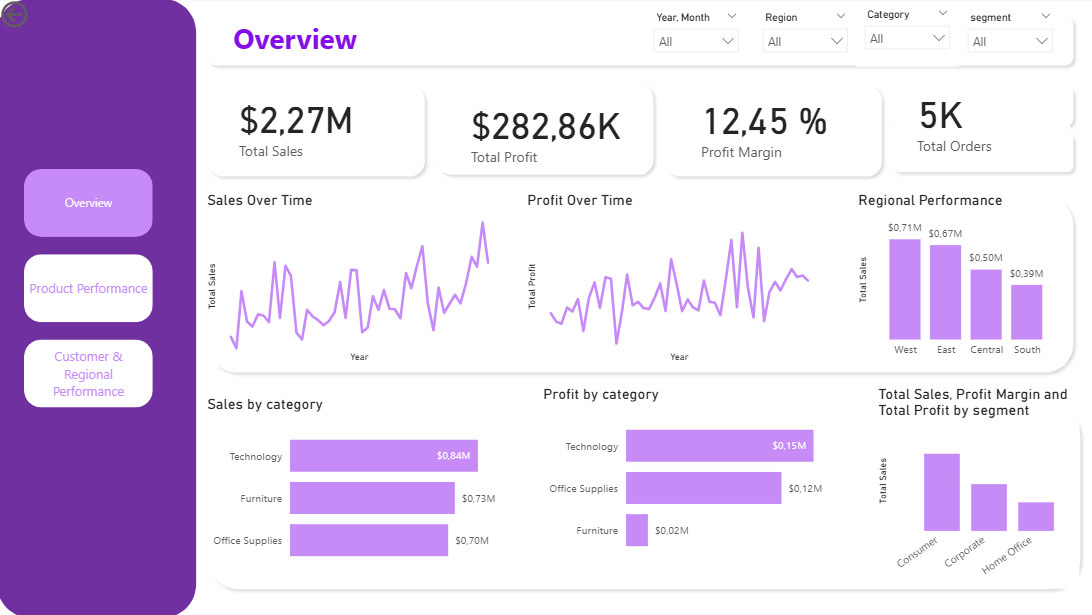

What the dashboard file says about the page in this screenshot:
{"tool":"powerbi","page":{"name":"Overview","canvas":[1280,720],"ordinal":0},"visuals":[{"type":"cardVisual","fields":{"Data":["superstore_db order_items.Total Sales"]},"box":[253.6,106.8,234.6,90.9],"z":0},{"type":"cardVisual","fields":{"Data":["superstore_db order_items.Total Profit"]},"box":[520.2,113.8,225.6,90.9],"z":1000},{"type":"cardVisual","fields":{"Data":["superstore_db order_items.Profit Margin %"]},"box":[784.8,100.8,222.7,103.8],"z":2000},{"type":"cardVisual","fields":{"Data":["superstore_db order_items.Total Orders"]},"box":[1033.4,93.9,200.7,103.8],"z":3000},{"type":"lineChart","title":"Profit Over Time","fields":{"Category":["superstore_db orders.order_date.Variation.Date Hierarchy.Year","superstore_db orders.order_date.Variation.Date Hierarchy.Month"],"Y":["superstore_db order_items.Total Profit"]},"box":[604.1,222.7,342.5,200.7],"z":4000},{"type":"clusteredBarChart","title":"Sales by Category","fields":{"Y":["superstore_db order_items.Total Sales"],"Category":["superstore_db products.category"]},"box":[236.6,457.3,367.4,211.7],"z":5000},{"type":"clusteredBarChart","title":"Profit by Category","fields":{"Y":["superstore_db order_items.Total Profit"],"Category":["superstore_db products.category"]},"box":[623,446.3,361.4,211.7],"z":6000},{"type":"columnChart","title":"Regional Performance","fields":{"Y":["superstore_db order_items.Total Sales"],"Category":["superstore_db orders.region"]},"box":[984.5,222.7,241.6,200.7],"z":7000},{"type":"columnChart","title":"Sales by Segment","fields":{"Y":["superstore_db order_items.Total Sales"],"Category":["superstore_db customers.segment"]},"box":[1007.4,446.3,235.6,233.6],"z":8000},{"type":"lineChart","title":"Sales Over Time","fields":{"Category":["superstore_db orders.order_date.Variation.Date Hierarchy.Year","superstore_db orders.order_date.Variation.Date Hierarchy.Month"],"Y":["superstore_db order_items.Total Sales"]},"box":[236.6,222.7,342.5,200.7],"z":9000},{"type":"slicer","title":"Sales Over Time","fields":{"Values":["superstore_db orders.order_date.Variation.Date Hierarchy.Year","superstore_db orders.order_date.Variation.Date Hierarchy.Month"]},"box":[744.8,12,117.8,63.9],"z":10000},{"type":"slicer","title":"Sales Over Time","fields":{"Values":["superstore_db products.category"]},"box":[987.5,8,117.8,71.9],"z":11000},{"type":"slicer","title":"Sales Over Time","fields":{"Values":["superstore_db orders.region"]},"box":[869.6,12,117.8,63.9],"z":12000},{"type":"slicer","title":"Sales Over Time","fields":{"Values":["superstore_db customers.segment"]},"box":[1105.3,12,117.8,63.9],"z":13000},{"type":"textbox","box":[266.6,20,323.5,55.9],"z":14000},{"type":"pageNavigator","box":[31,197.7,148.8,275.6],"z":15000},{"type":"actionButton","box":[0,0,100,40],"z":16000}]}

Visuals, with their boxes on the page's 1280x720 design canvas (x1, y1, x2, y2). These are canvas units, not pixel positions in the 1092x615 screenshot, which may show the page scaled, cropped or inside an application window:
cardVisual - superstore_db order_items.Total Sales: box=[254, 107, 488, 198]
cardVisual - superstore_db order_items.Total Profit: box=[520, 114, 746, 205]
cardVisual - superstore_db order_items.Profit Margin %: box=[785, 101, 1008, 205]
cardVisual - superstore_db order_items.Total Orders: box=[1033, 94, 1234, 198]
"Profit Over Time" lineChart: box=[604, 223, 947, 423]
"Sales by Category" clusteredBarChart: box=[237, 457, 604, 669]
"Profit by Category" clusteredBarChart: box=[623, 446, 984, 658]
"Regional Performance" columnChart: box=[984, 223, 1226, 423]
"Sales by Segment" columnChart: box=[1007, 446, 1243, 680]
"Sales Over Time" lineChart: box=[237, 223, 579, 423]
"Sales Over Time" slicer: box=[745, 12, 863, 76]
"Sales Over Time" slicer: box=[988, 8, 1105, 80]
"Sales Over Time" slicer: box=[870, 12, 987, 76]
"Sales Over Time" slicer: box=[1105, 12, 1223, 76]
textbox: box=[267, 20, 590, 76]
pageNavigator: box=[31, 198, 180, 473]
actionButton: box=[0, 0, 100, 40]
